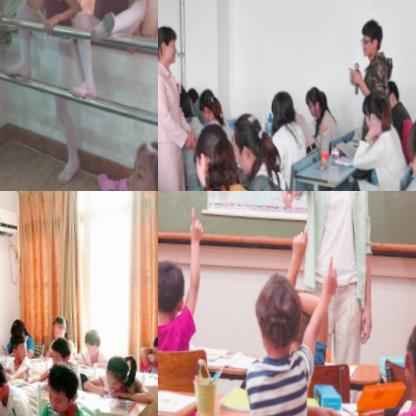head: (257, 266, 306, 354), (190, 117, 241, 191), (233, 110, 271, 175), (122, 126, 158, 191), (158, 254, 192, 321), (46, 356, 80, 410), (359, 89, 393, 137), (399, 311, 416, 394), (268, 85, 299, 125), (105, 349, 135, 390), (358, 12, 386, 53), (199, 85, 224, 124), (158, 20, 178, 67), (304, 79, 327, 115), (50, 332, 73, 365), (381, 73, 402, 107), (8, 328, 29, 359), (407, 107, 416, 178), (84, 323, 103, 353), (8, 312, 29, 338), (52, 308, 70, 338), (0, 356, 11, 401), (187, 85, 201, 105), (150, 331, 158, 361)
